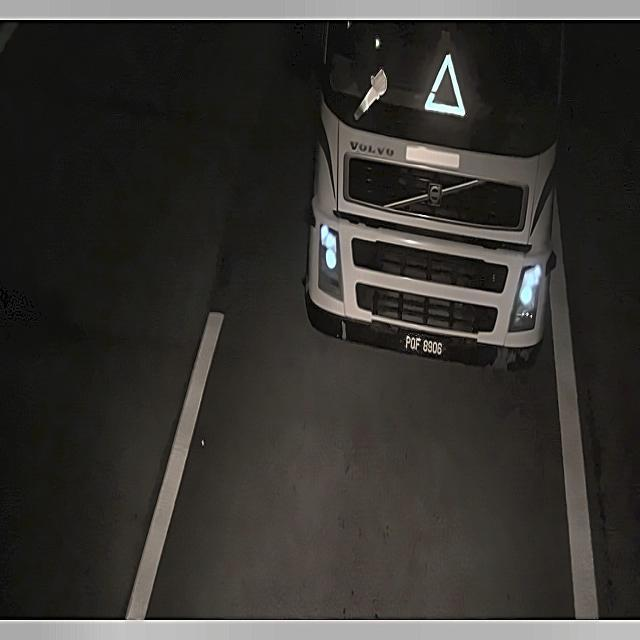car: (400, 327, 450, 361)
